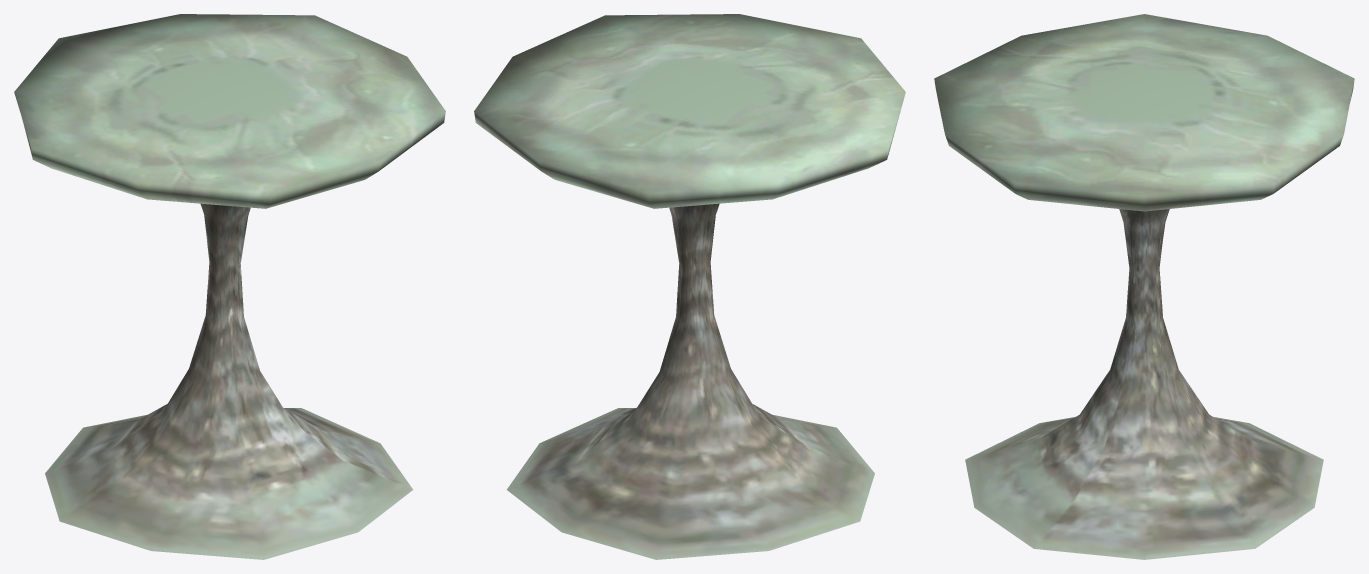
The model's file is INST_TROLLHOLE_SHELFSTONE2M.fbx.
The picture shows the model from 3 angles, left to right: view 1: azimuth 30°, elevation 25°; view 2: azimuth 150°, elevation 25°; view 3: azimuth 270°, elevation 25°; orthographic projection.
Parts seen in each view (by area): view 1: INST_TROLLHOLE_SHELFSTONE2M; view 2: INST_TROLLHOLE_SHELFSTONE2M; view 3: INST_TROLLHOLE_SHELFSTONE2M.
Part boxes in pixels (x1,y1,x2,y2): INST_TROLLHOLE_SHELFSTONE2M: (14, 14, 445, 559); INST_TROLLHOLE_SHELFSTONE2M: (474, 14, 905, 559); INST_TROLLHOLE_SHELFSTONE2M: (934, 14, 1354, 559).
Bounding box in the file's own units: 21244 × 21531 × 20736.
2 materials, 2 textured.
